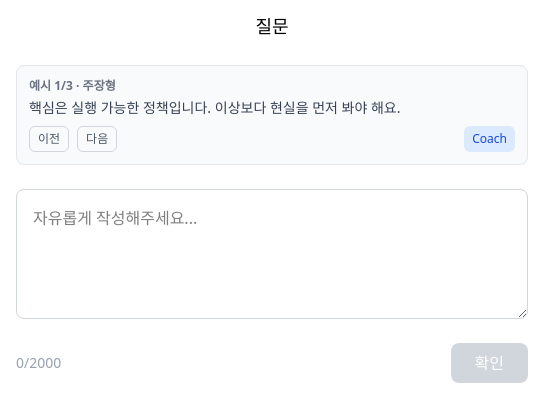
Test case: OpenEndedQuestion › updates character count on input
In the text box with placeholder "자유롭게 작성해주세요...": point(272, 254) left=16, top=189, right=528, bottom=319, type "테스트"
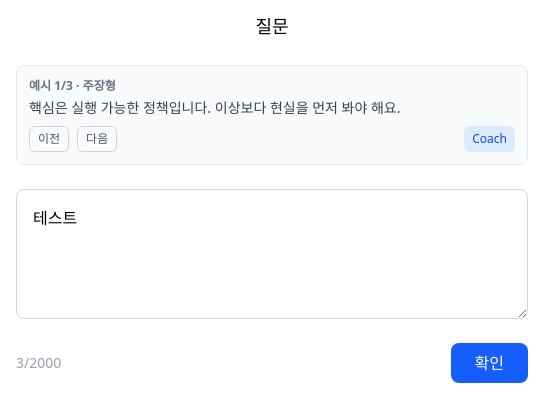
expect the text "3/2000" is shown: met, box left=16, top=353, right=61, bottom=373
